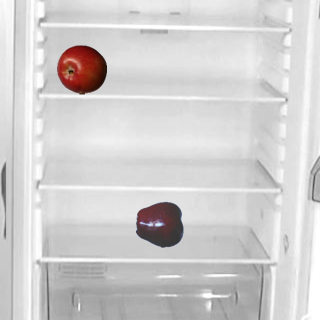Apple Braeburn: (56, 44, 106, 94)
Apple Red Delicious: (135, 199, 185, 249)
